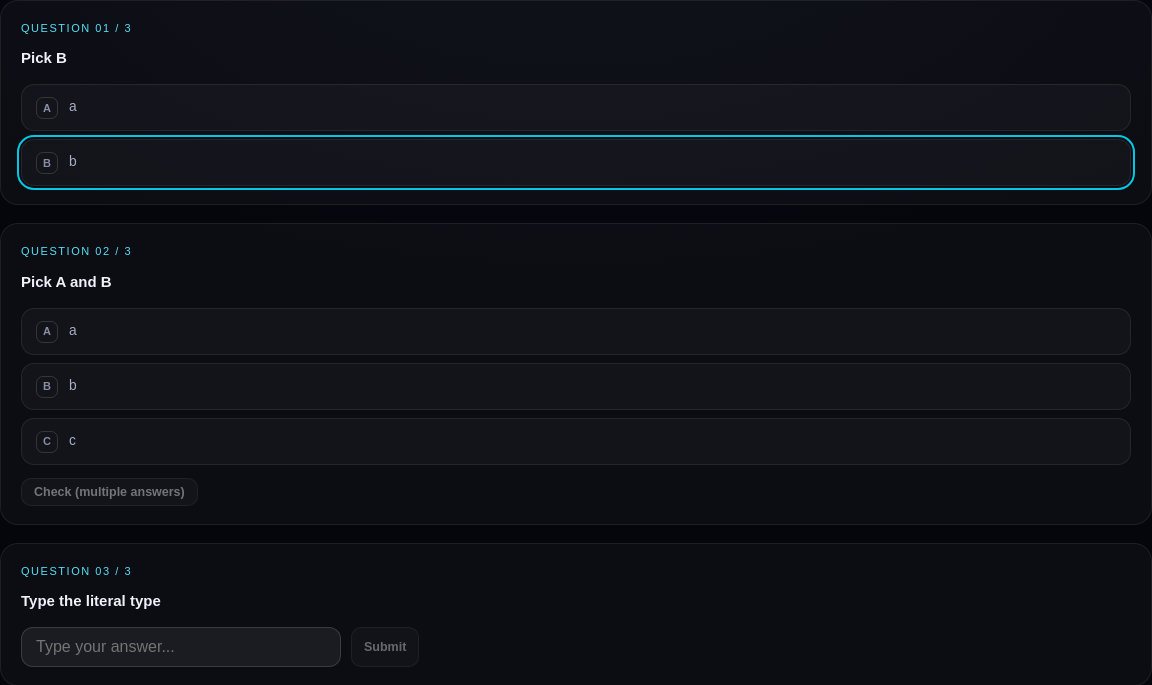
Test: keyboard and screen readers › keeps focus on the answered option and announces the verdict
The image size is (1152, 685).
Click the button "B b" below "Pick B" at (47, 163), box [21,139,1131,186]
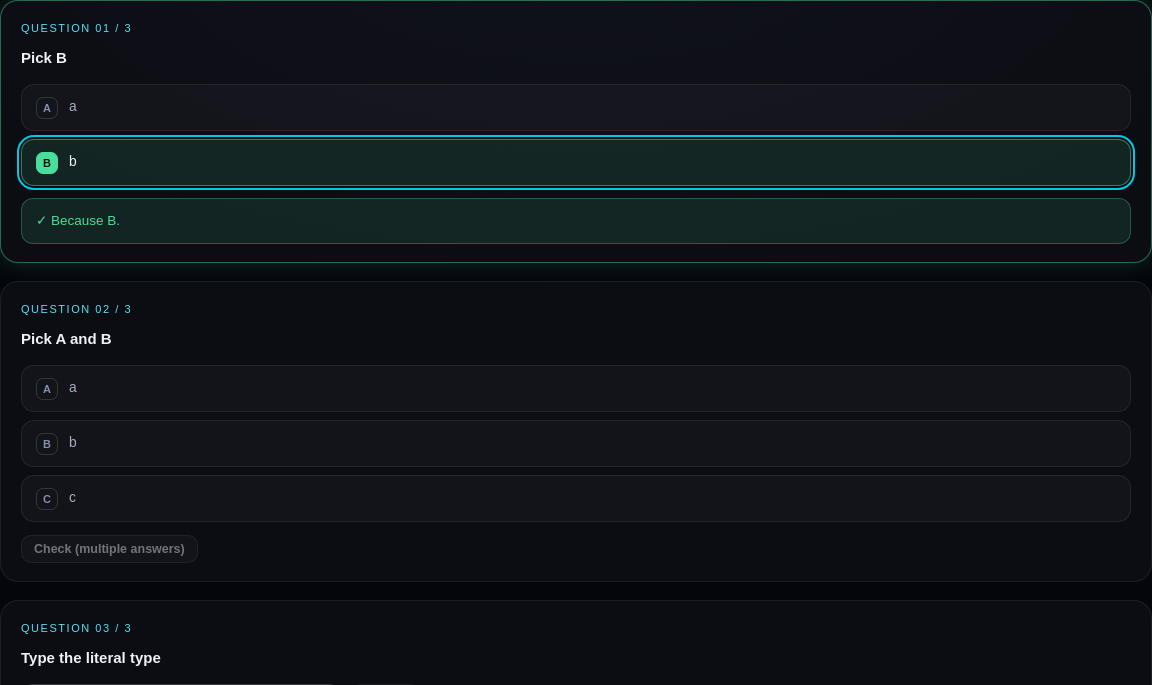
Expected: the button "B b" below "Pick B" is enabled, [21,139,1131,186]
Expected: the message "✓ Because B." is shown, [21,198,1131,244]
